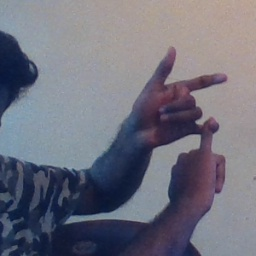S: (130, 42, 239, 198)
